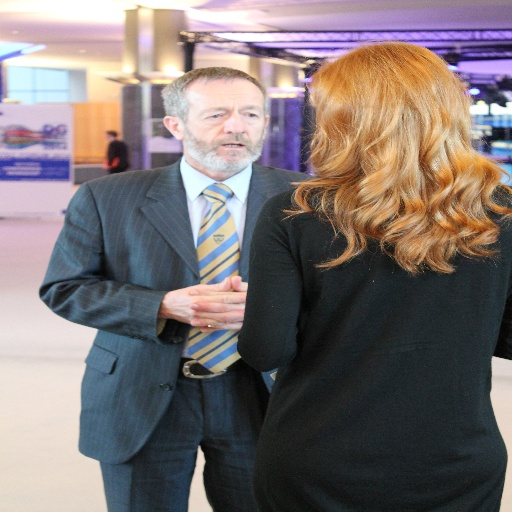hand: (182, 275, 248, 336)
